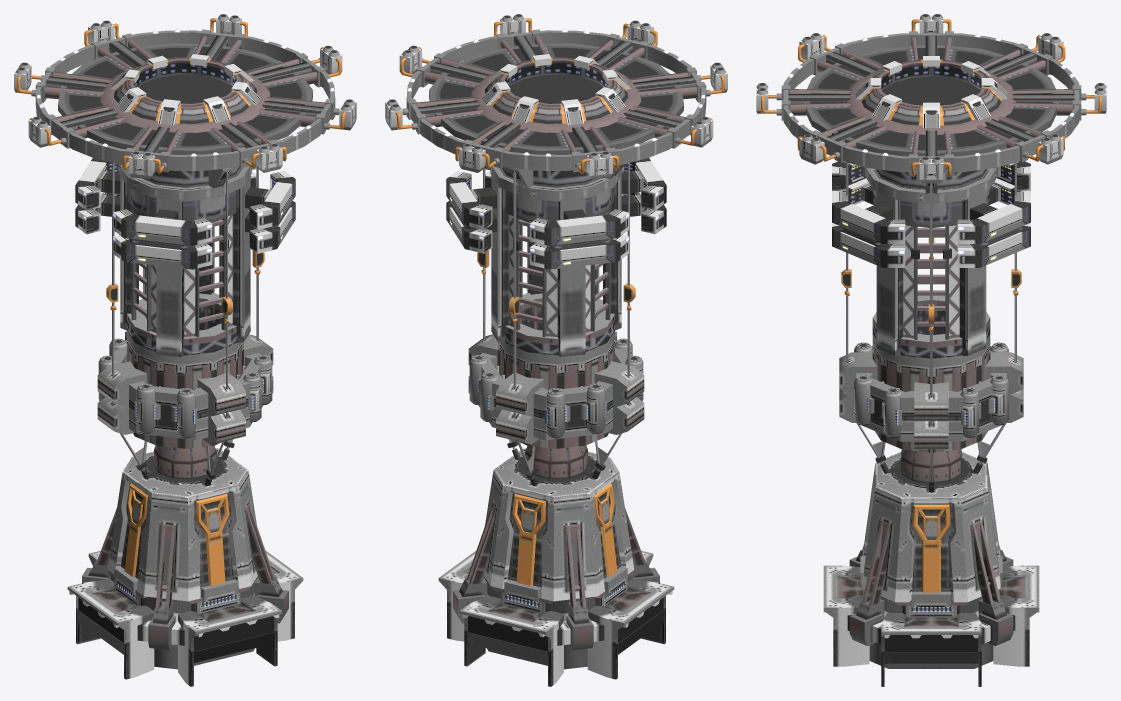
The picture shows the model from 3 angles, left to right: view 1: azimuth 30°, elevation 25°; view 2: azimuth 150°, elevation 25°; view 3: azimuth 270°, elevation 25°; orthographic projection.
Visible parts, largest first — view 1: logistic-station; view 2: logistic-station; view 3: logistic-station.
Boxes of the visible parts, bbox=[...] form: logistic-station: bbox=[14, 14, 356, 686]; logistic-station: bbox=[385, 14, 727, 686]; logistic-station: bbox=[756, 14, 1106, 686].
Bounding box in the file's own units: 14.62 × 25.98 × 14.62.
2 materials, 1 textured.
